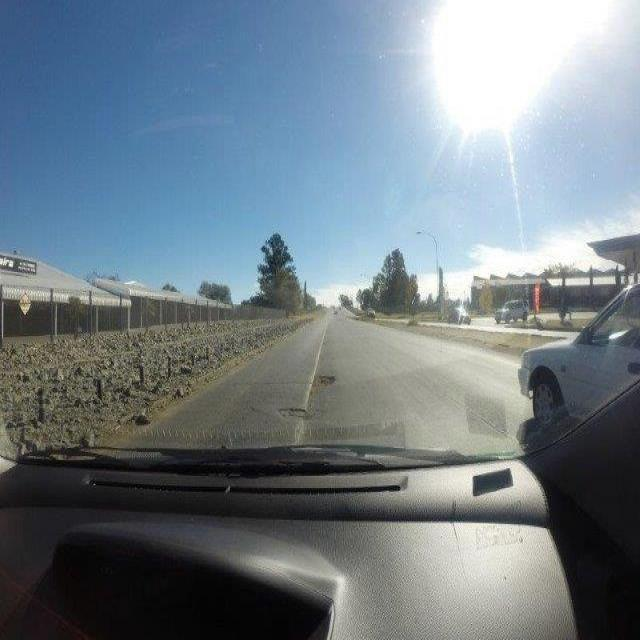lubang: (277, 402, 308, 422), (307, 371, 338, 389)
